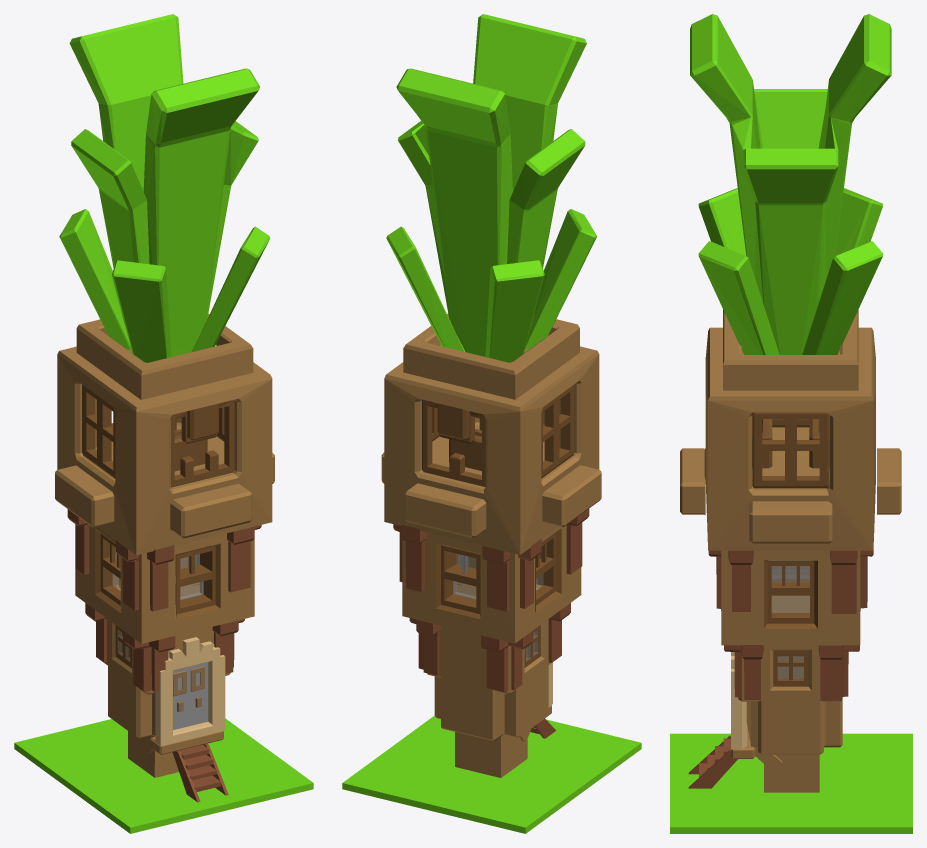
File: Scene_House01.FBX
The picture shows the model from 3 angles, left to right: view 1: azimuth 30°, elevation 25°; view 2: azimuth 150°, elevation 25°; view 3: azimuth 270°, elevation 25°; orthographic projection. The views are drawn at different scales.
Parts seen in each view (by area): view 1: Scene_House_07, Scene_House_03, Scene_House_01, Scene_House_05, Scene_House_04, Scene_House_11, Scene_House_02, Scene_House_08, Scene_House_09, Scene_House_12, Scene_House_06, Scene_House_10; view 2: Scene_House_03, Scene_House_07, Scene_House_01, Scene_House_05, Scene_House_04, Scene_House_06, Scene_House_09; view 3: Scene_House_03, Scene_House_07, Scene_House_01, Scene_House_05, Scene_House_04, Scene_House_06, Scene_House_02, Scene_House_11, Scene_House_09, Scene_House_12.
Part boxes in pixels (bbox=[...]): Scene_House_07: bbox=[59, 14, 270, 362]; Scene_House_03: bbox=[55, 313, 274, 777]; Scene_House_01: bbox=[14, 718, 313, 833]; Scene_House_05: bbox=[82, 384, 234, 668]; Scene_House_04: bbox=[67, 509, 261, 691]; Scene_House_11: bbox=[155, 637, 225, 745]; Scene_House_02: bbox=[172, 744, 228, 802]; Scene_House_08: bbox=[173, 662, 208, 729]; Scene_House_09: bbox=[174, 419, 207, 471]; Scene_House_12: bbox=[142, 730, 223, 754]; Scene_House_06: bbox=[112, 544, 218, 661]; Scene_House_10: bbox=[173, 666, 204, 712]; Scene_House_03: bbox=[381, 313, 601, 777]; Scene_House_07: bbox=[386, 14, 596, 362]; Scene_House_01: bbox=[342, 715, 641, 833]; Scene_House_05: bbox=[422, 384, 574, 667]; Scene_House_04: bbox=[393, 509, 589, 692]; Scene_House_06: bbox=[438, 543, 543, 661]; Scene_House_09: bbox=[449, 419, 481, 470]; Scene_House_03: bbox=[680, 309, 901, 792]; Scene_House_07: bbox=[690, 14, 891, 354]; Scene_House_01: bbox=[670, 733, 912, 833]; Scene_House_05: bbox=[721, 412, 860, 686]; Scene_House_04: bbox=[708, 550, 873, 700]; Scene_House_06: bbox=[768, 560, 813, 678]; Scene_House_02: bbox=[688, 735, 737, 788]; Scene_House_11: bbox=[731, 652, 747, 749]; Scene_House_09: bbox=[752, 415, 829, 468]; Scene_House_12: bbox=[731, 727, 782, 770].
Bounding box in the file's own units: 69.18 × 257 × 75.55.
